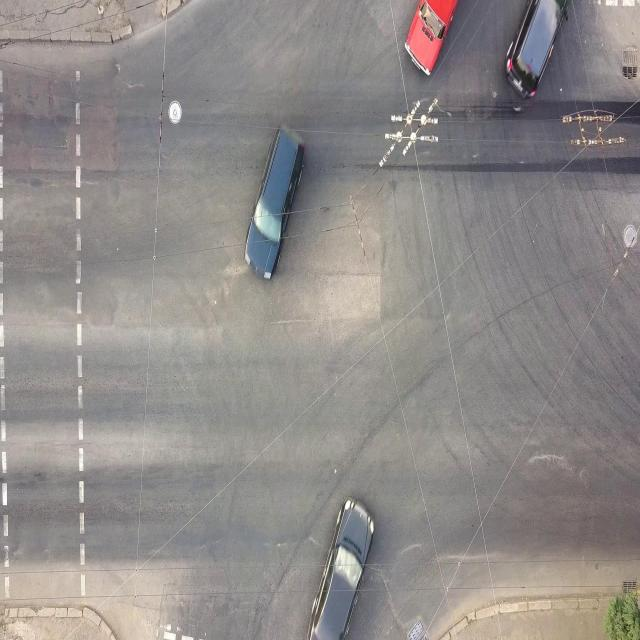Car: (243, 127, 307, 281), (306, 496, 374, 640), (506, 0, 570, 101), (404, 0, 458, 77)
